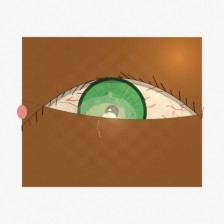corneal_ulcer: (73, 90, 138, 142)
